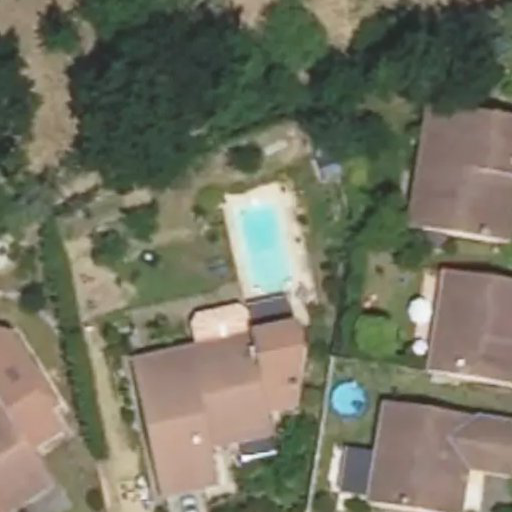pool: (232, 209, 279, 274)
